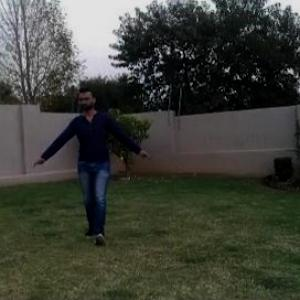land: (21, 75, 160, 258)
